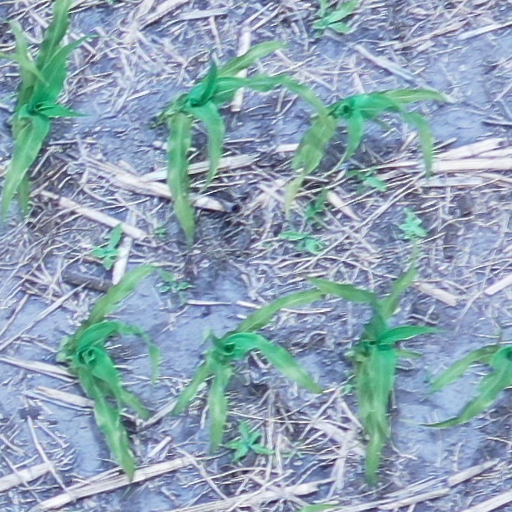planta: (306, 246, 438, 485), (171, 288, 327, 452), (163, 40, 290, 239), (59, 264, 175, 479), (281, 76, 443, 216)
